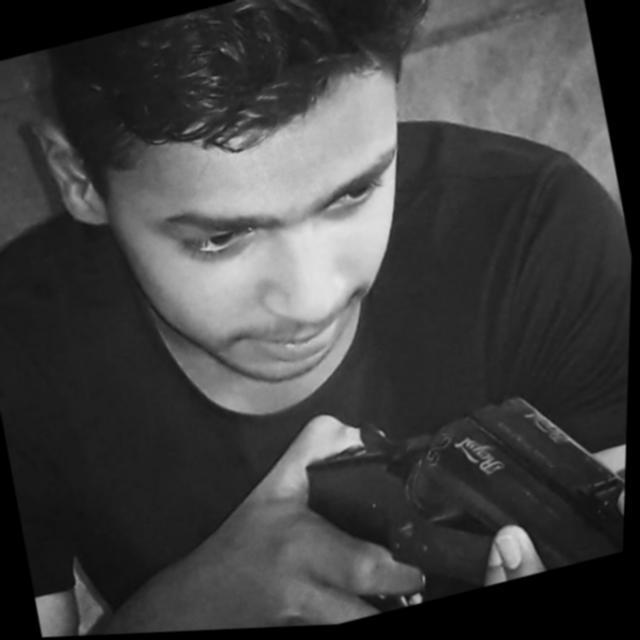weapon: (282, 364, 631, 630)
